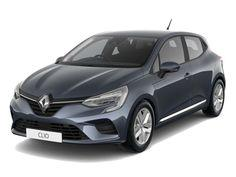Renault: (34, 91, 54, 116)
